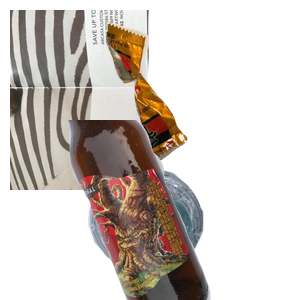glass: (65, 120, 300, 300)
paper: (10, 10, 250, 190)
plastic: (86, 163, 282, 300)
trash: (103, 21, 300, 174)
